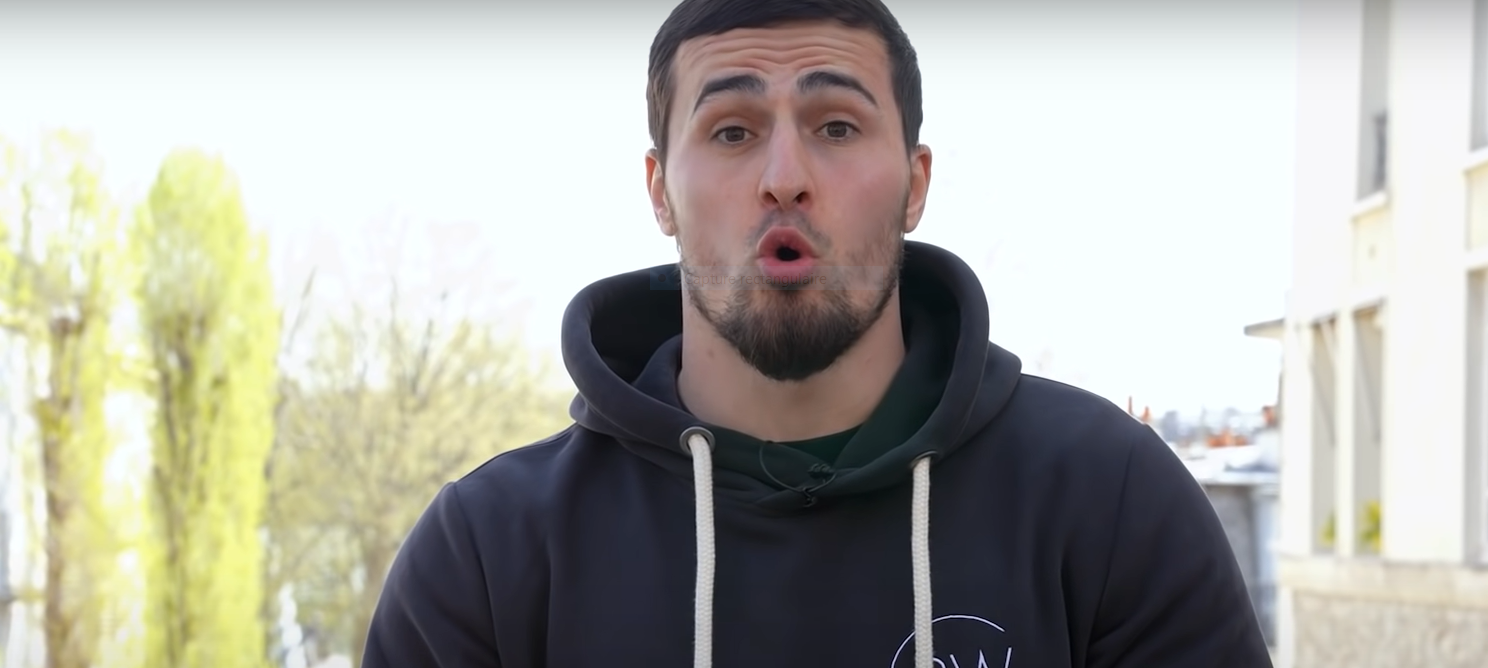without_mask: (686, 44, 900, 338)
